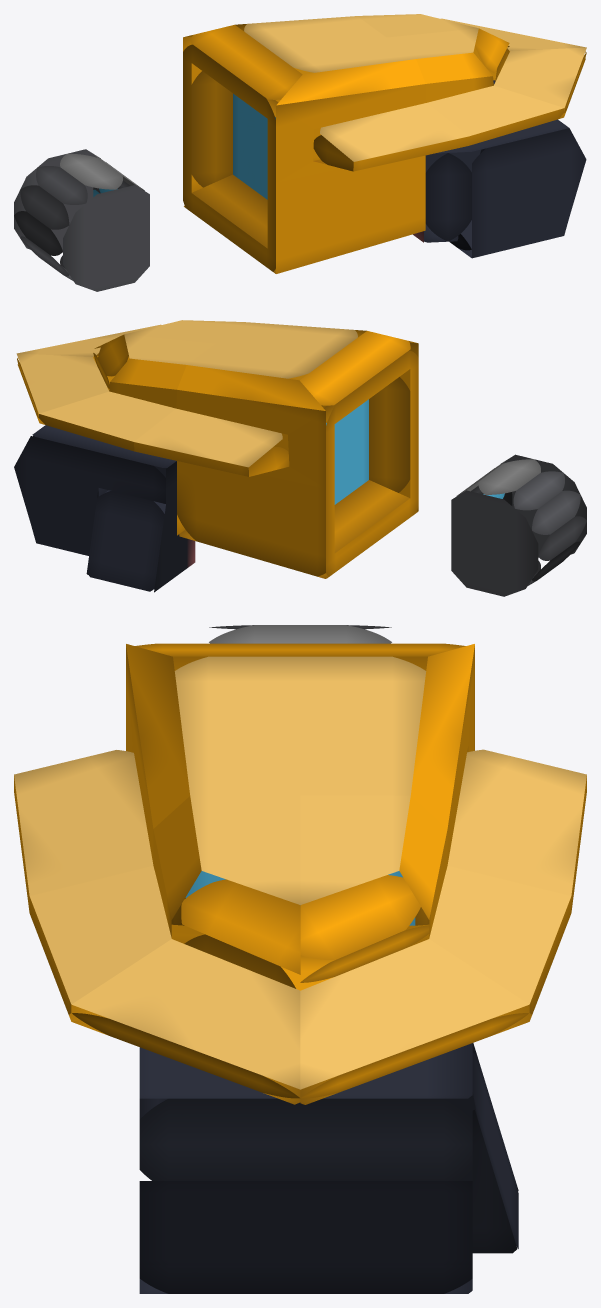
File: SeriphRightArm.obj
3 renders of one model, top to bottom at view 1: azimuth 30°, elevation 25°; view 2: azimuth 150°, elevation 25°; view 3: azimuth 270°, elevation 25°, orthographic. The views are drawn at different scales.
Parts seen in each view (by area): view 1: Forearm, cuboid, cylinder; view 2: Forearm, cuboid, cylinder; view 3: Forearm, cuboid, cylinder.
Boxes of the visible parts, x1,y1,x2,y2 form: Forearm: [183, 14, 586, 273]; cuboid: [413, 80, 586, 258]; cylinder: [14, 149, 149, 291]; Forearm: [16, 320, 418, 578]; cuboid: [14, 425, 195, 592]; cylinder: [451, 454, 586, 596]; Forearm: [14, 643, 586, 1104]; cuboid: [139, 1043, 518, 1293]; cylinder: [209, 625, 391, 643].
Bounding box in the file's own units: 0.8076 × 0.3172 × 0.3896.
1 material, 1 textured.
